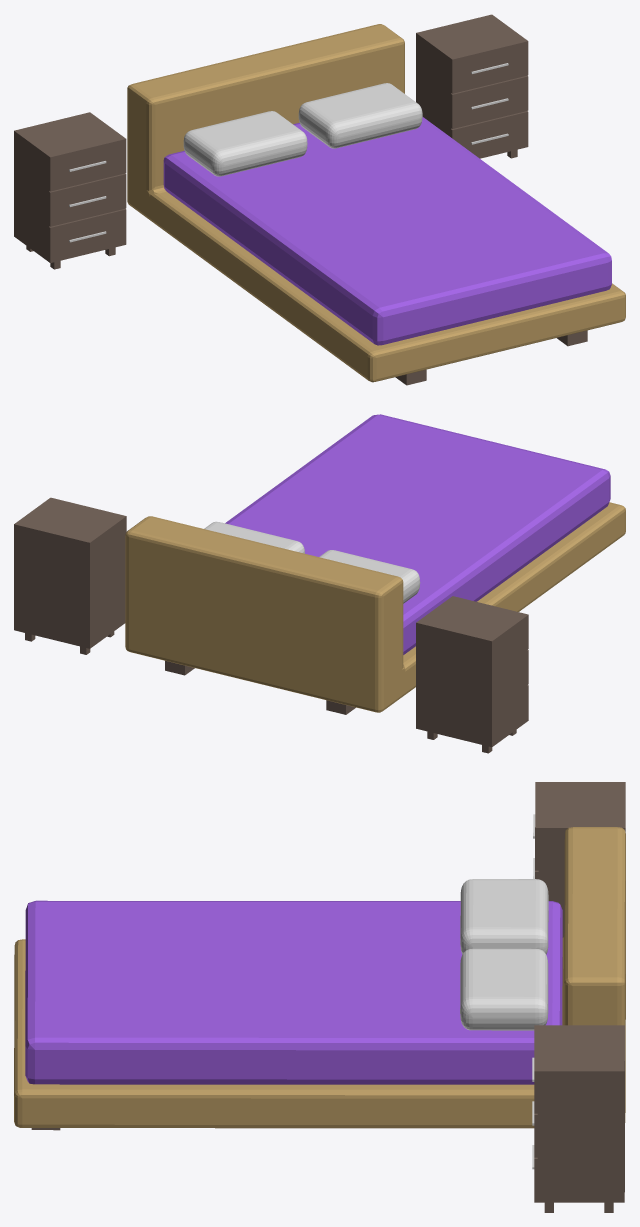
Rendered from bed_with_accessories.gltf.
3 renders of one model, top to bottom at view 1: azimuth 30°, elevation 25°; view 2: azimuth 150°, elevation 25°; view 3: azimuth 270°, elevation 25°, orthographic. The views are drawn at different scales.
Visible parts, largest first — view 1: node-0; view 2: node-0; view 3: node-0.
Part boxes in pixels (<box>): node-0: <box>14,14,625,385</box>; node-0: <box>14,414,625,753</box>; node-0: <box>14,782,625,1212</box>.
Size of the model in its own units: 2.53 by 0.6921 by 2.26.
